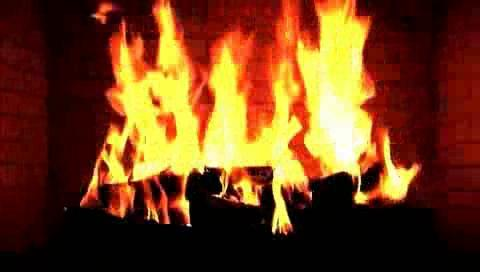fire: (89, 8, 398, 203)
